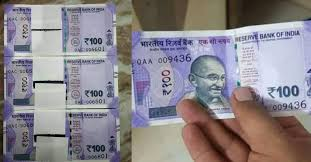hundred: (141, 48, 305, 102)
